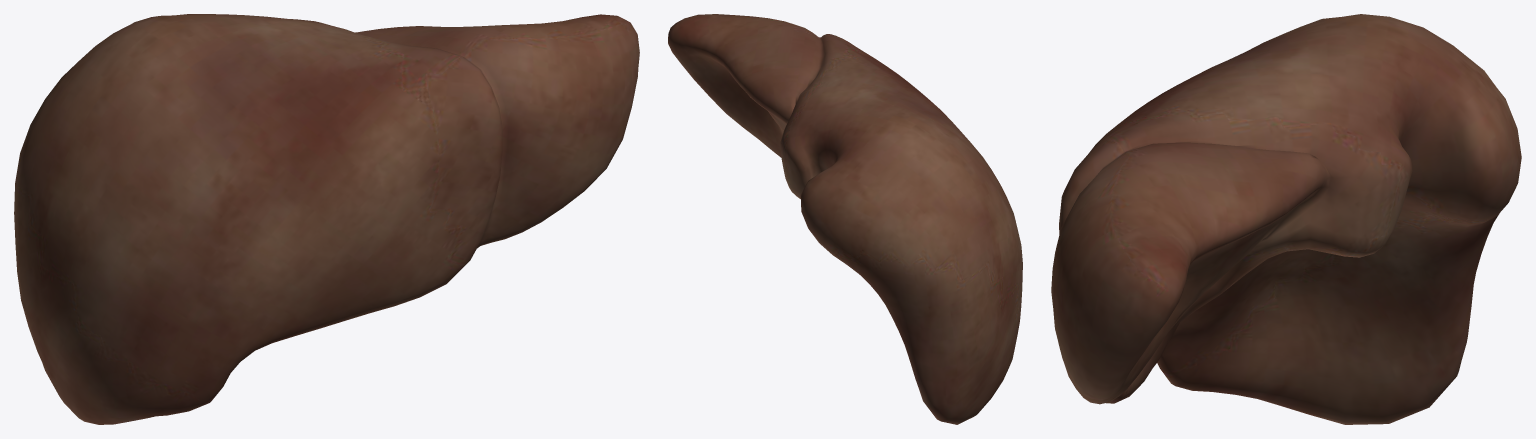
The model's file is cirrhosis-liver.glb.
3 views of the same model, side by side, from view 1: azimuth 30°, elevation 25°; view 2: azimuth 150°, elevation 25°; view 3: azimuth 270°, elevation 25° (orthographic). The views are drawn at different scales.
Parts seen in each view (by area): view 1: Liver; view 2: Liver; view 3: Liver.
Boxes of the visible parts, bbox=[...] form: Liver: bbox=[14, 14, 639, 424]; Liver: bbox=[668, 14, 1022, 424]; Liver: bbox=[1051, 14, 1521, 424].
Bounding box in the file's own units: 0.2685 × 0.1847 × 0.1719.
Materials: 1 (1 with a texture image).
